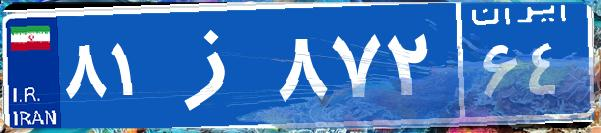1: (110, 28, 158, 105)
2: (385, 28, 445, 110)
4: (525, 38, 570, 115)
6: (475, 38, 525, 113)
7: (330, 28, 385, 110)
8: (273, 28, 330, 110), (57, 26, 110, 107)
ز: (158, 15, 273, 115)
